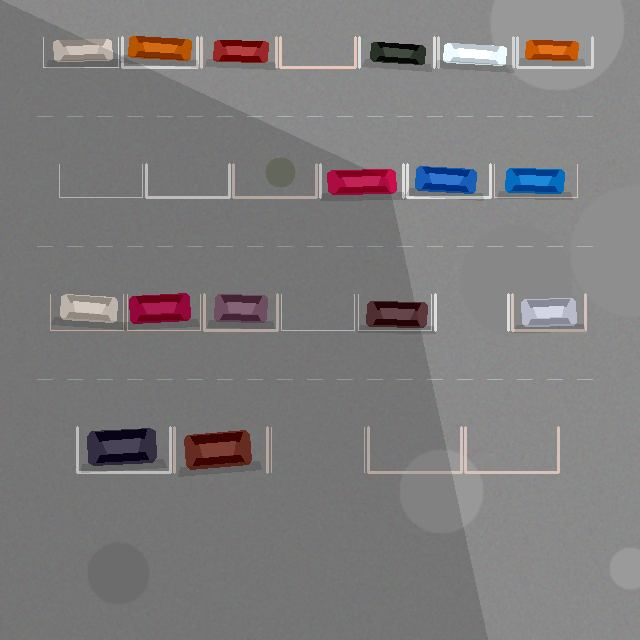space-empty: (271, 427, 364, 472), (368, 427, 461, 472), (465, 427, 558, 472), (59, 164, 142, 197), (146, 164, 229, 197), (233, 164, 316, 197), (281, 294, 354, 330), (435, 294, 508, 330), (280, 37, 355, 67)
space-occupied: (77, 427, 170, 472), (174, 427, 267, 472), (320, 164, 403, 197), (407, 164, 490, 197), (494, 164, 577, 197), (50, 294, 123, 330), (127, 294, 200, 330), (204, 294, 277, 330), (358, 294, 431, 330), (512, 294, 585, 330), (43, 37, 118, 67), (122, 37, 197, 67), (201, 37, 276, 67), (359, 37, 434, 67), (438, 37, 513, 67), (517, 37, 592, 67)
